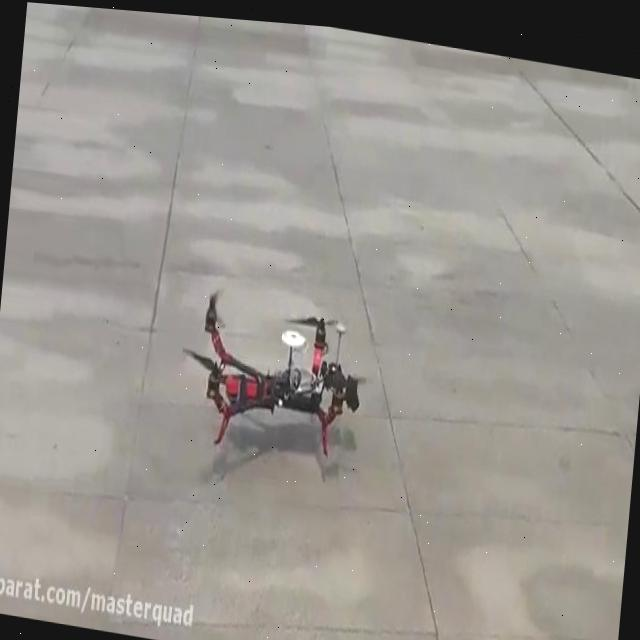drone: (167, 265, 390, 471)
